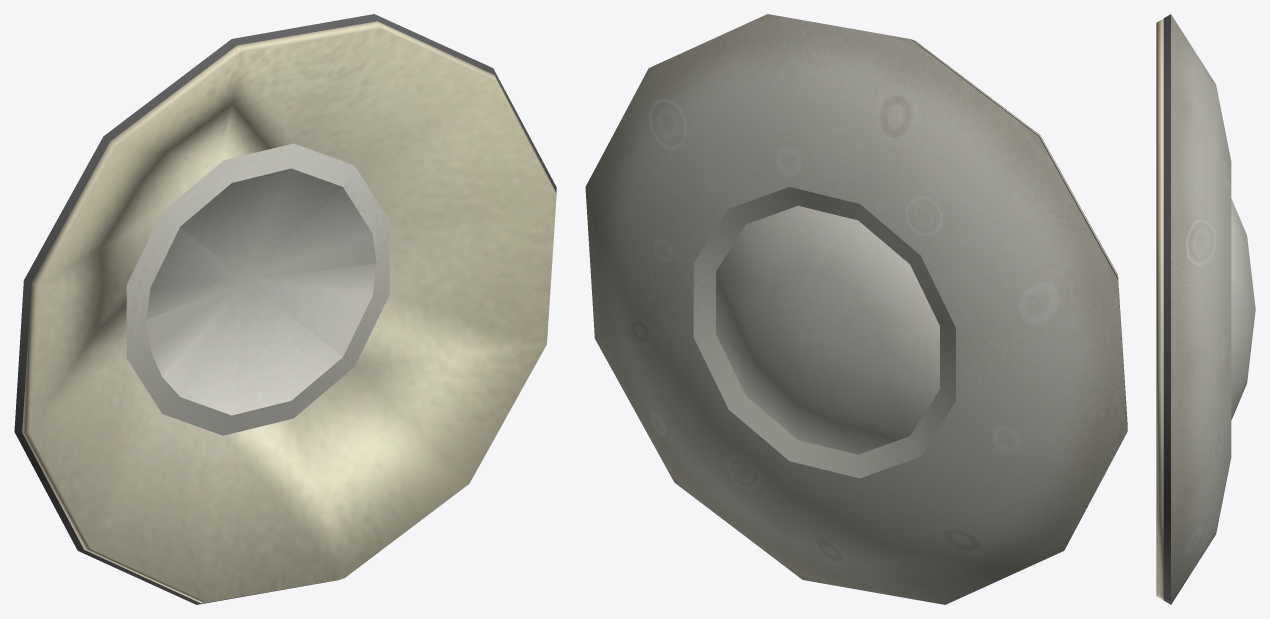
Rendered from nt_2020_kitchen_light_01_LOD2.obj.
3 views of the same model, side by side, from view 1: azimuth 30°, elevation 25°; view 2: azimuth 150°, elevation 25°; view 3: azimuth 270°, elevation 25° (orthographic). The views are drawn at different scales.
Parts seen in each view (by area): view 1: glass_frosted_lit, mtl_nt_2020_kitchen_light_glass, nt_2020_metal_chrome; view 2: mtl_nt_2020_kitchen_light_glass; view 3: mtl_nt_2020_kitchen_light_glass, nt_2020_metal_chrome, glass_frosted_lit.
Part boxes in pixels (x1,y1,x2,y2): glass_frosted_lit: [22, 21, 556, 603]; mtl_nt_2020_kitchen_light_glass: [126, 143, 389, 435]; nt_2020_metal_chrome: [14, 14, 556, 604]; mtl_nt_2020_kitchen_light_glass: [585, 14, 1127, 604]; mtl_nt_2020_kitchen_light_glass: [1171, 14, 1255, 604]; nt_2020_metal_chrome: [1163, 14, 1170, 604]; glass_frosted_lit: [1156, 18, 1163, 600].
Bounding box in the file's own units: 401 × 401 × 66.84.
